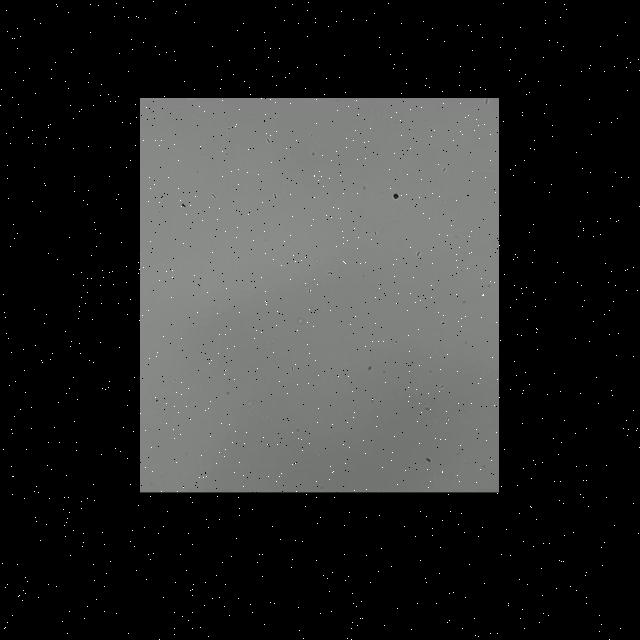microbeads: (392, 192, 402, 200)
